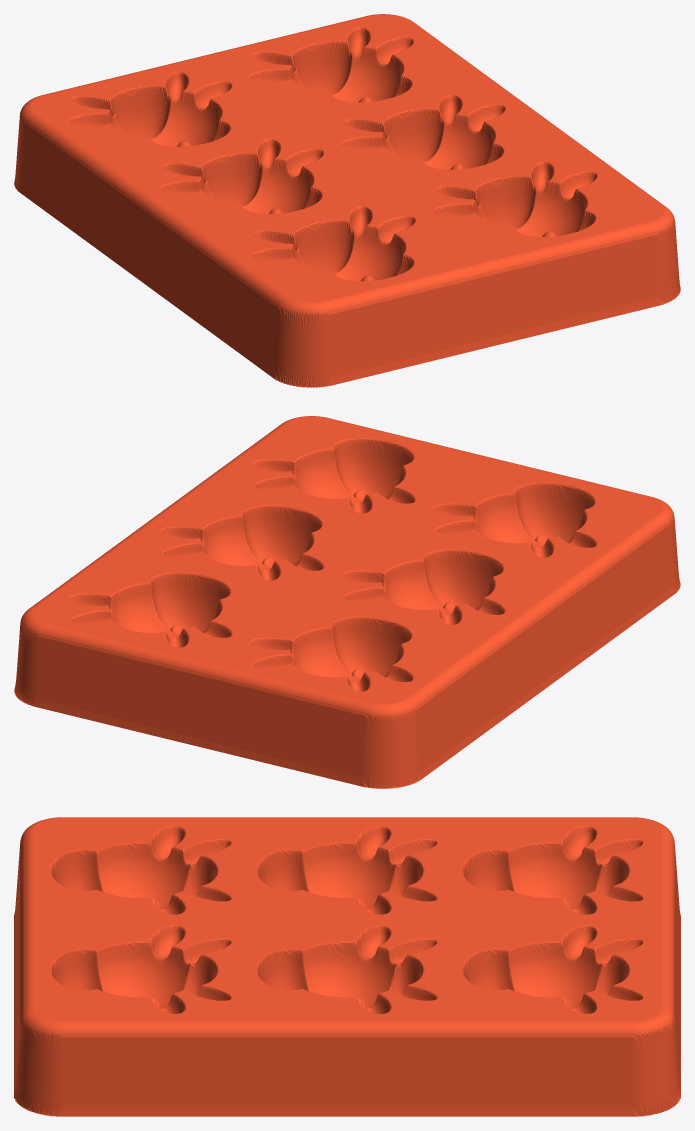
Rendered from mold.glb.
The picture shows the model from 3 angles, top to bottom: view 1: azimuth 30°, elevation 25°; view 2: azimuth 150°, elevation 25°; view 3: azimuth 270°, elevation 25°; orthographic projection. The views are drawn at different scales.
Parts seen in each view (by area): view 1: geometry_0; view 2: geometry_0; view 3: geometry_0.
Boxes of the visible parts, bbox=[...] form: geometry_0: bbox=[14, 14, 680, 387]; geometry_0: bbox=[14, 416, 680, 788]; geometry_0: bbox=[14, 817, 680, 1116].
Bounding box in the file's own units: 0.0945 × 0.0175 × 0.1213.
